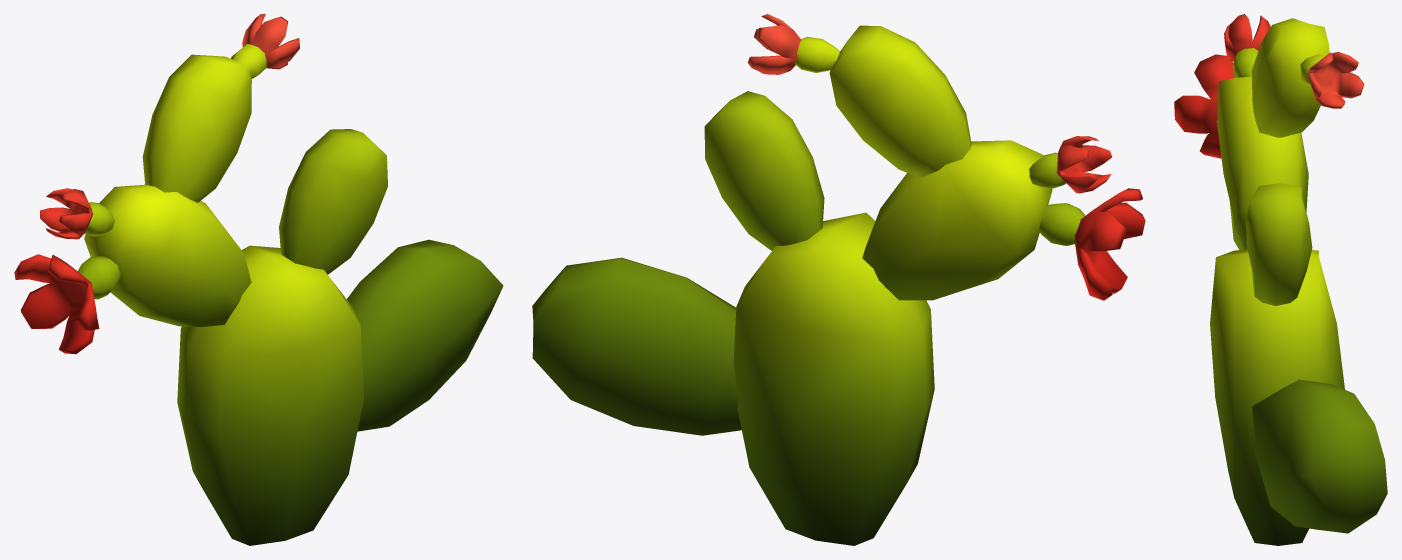
File: Pear Cactus.fbx
3 views of the same model, side by side, from view 1: azimuth 30°, elevation 25°; view 2: azimuth 150°, elevation 25°; view 3: azimuth 270°, elevation 25° (orthographic). The views are drawn at different scales.
Visible parts, largest first — view 1: prickly_pear_cactus; view 2: prickly_pear_cactus; view 3: prickly_pear_cactus.
Boxes of the visible parts, left/top/right/bottom form: prickly_pear_cactus: left=14, top=14, right=503, bottom=545; prickly_pear_cactus: left=532, top=14, right=1145, bottom=545; prickly_pear_cactus: left=1174, top=14, right=1387, bottom=545.
Bounding box in the file's own units: 243 × 221 × 87.62.
